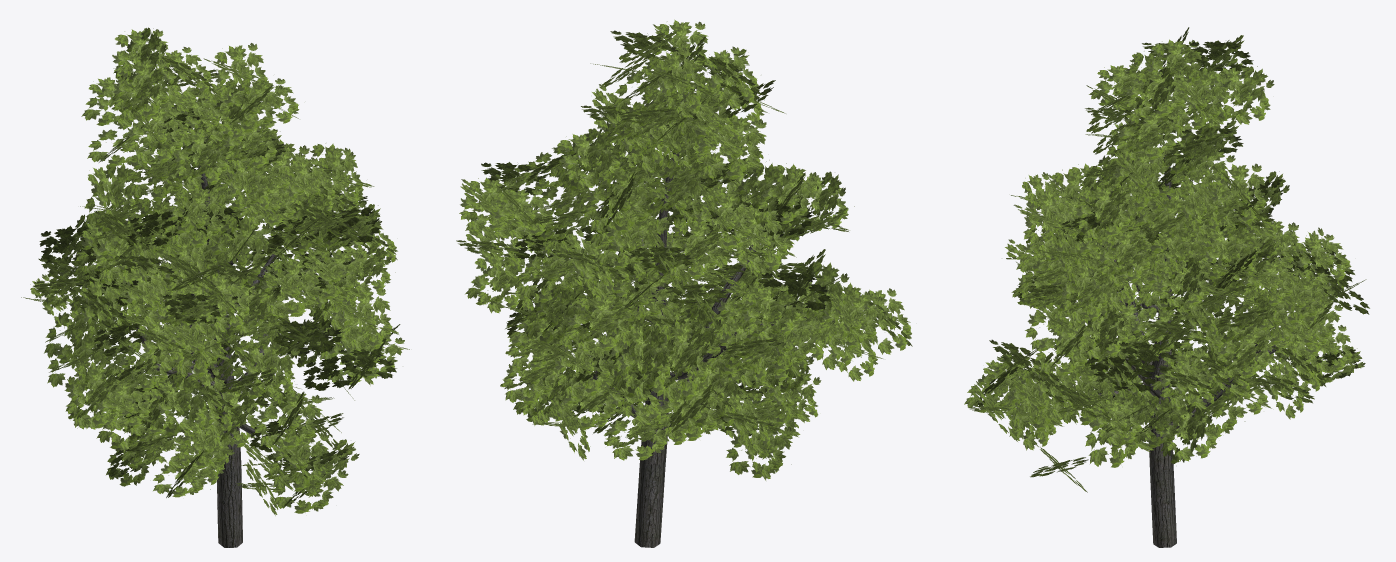
File: sugar_maple_2.obj
3 renders of one model, left to right at view 1: azimuth 30°, elevation 25°; view 2: azimuth 150°, elevation 25°; view 3: azimuth 270°, elevation 25°, orthographic. The views are drawn at different scales.
Visible parts, largest first — view 1: Leaves, Trunk, Branches; view 2: Leaves, Trunk, Branches; view 3: Leaves, Trunk, Branches.
Part boxes in pixels (<box>): Leaves: <box>21,27,409,515</box>; Trunk: <box>198,166,242,547</box>; Branches: <box>136,252,276,434</box>; Leaves: <box>456,19,912,480</box>; Trunk: <box>634,152,679,547</box>; Branches: <box>592,237,773,420</box>; Leaves: <box>964,27,1369,492</box>; Trunk: <box>1149,154,1176,547</box>; Branches: <box>1098,245,1276,429</box>.
Bounding box in the file's own units: 17.56 × 22.36 × 17.85.
Materials: 2 (2 with a texture image).
